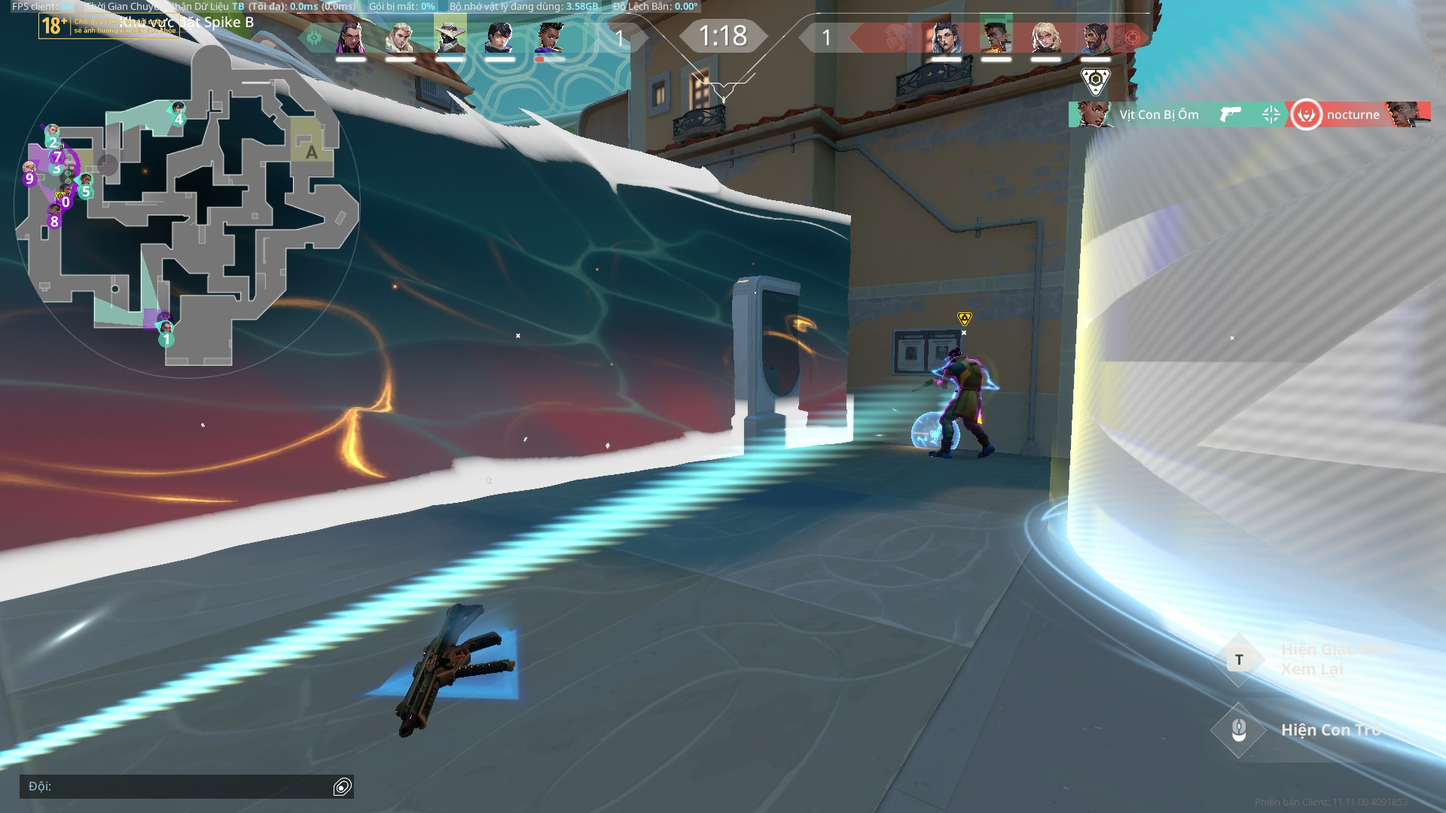body: (950, 357, 985, 392)
head: (947, 348, 970, 363)
